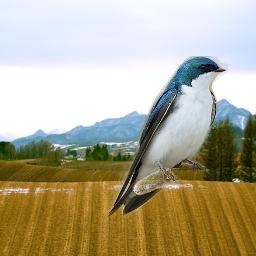Swallow: (107, 56, 228, 219)
